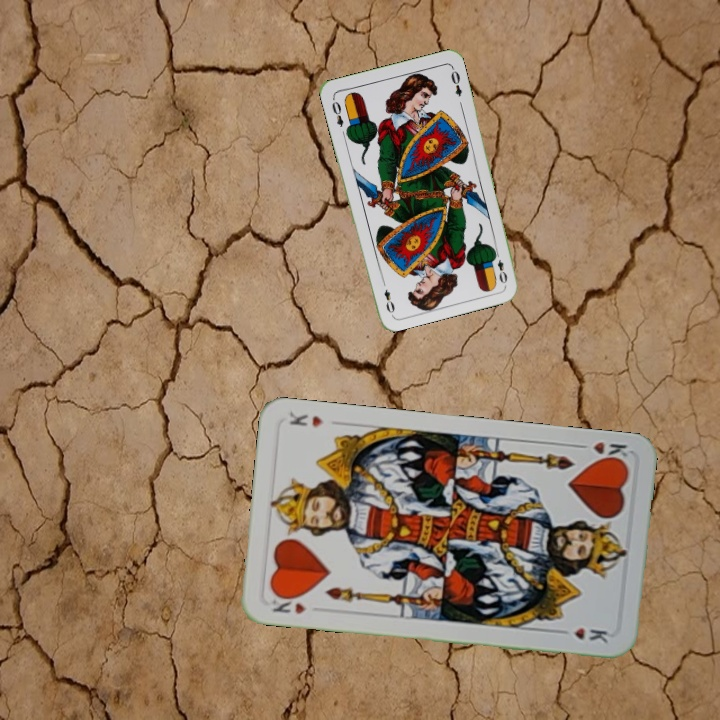EO: (490, 247, 510, 286), (328, 94, 346, 130)
HK: (572, 437, 631, 466), (268, 590, 309, 617)
